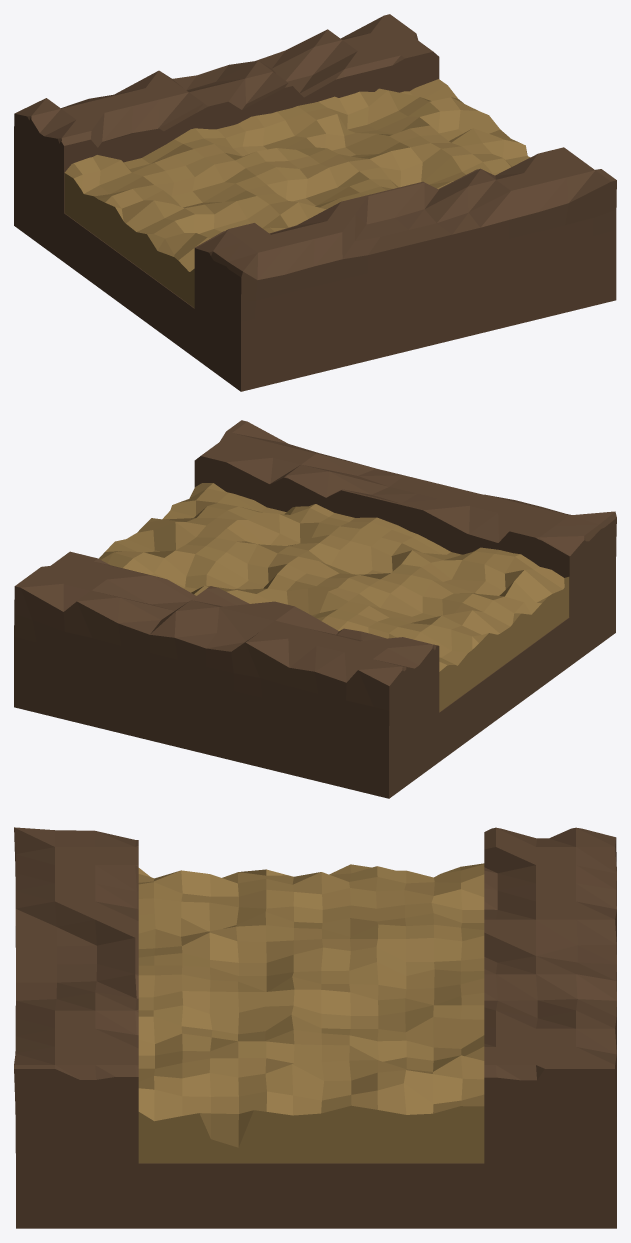
Rendered from straightPath.fbx.
3 renders of one model, top to bottom at view 1: azimuth 30°, elevation 25°; view 2: azimuth 150°, elevation 25°; view 3: azimuth 270°, elevation 25°, orthographic. The views are drawn at different scales.
Parts seen in each view (by area): view 1: Cube.002, Cube.001; view 2: Cube.002, Cube.001; view 3: Cube.002, Cube.001.
Boxes of the visible parts, bbox=[...] form: Cube.002: bbox=[14, 14, 616, 391]; Cube.001: bbox=[64, 79, 530, 307]; Cube.002: bbox=[14, 420, 616, 798]; Cube.001: bbox=[99, 483, 569, 711]; Cube.002: bbox=[14, 827, 616, 1228]; Cube.001: bbox=[138, 863, 484, 1163].
Size of the model in its own units: 1887 by 579 by 1981.
